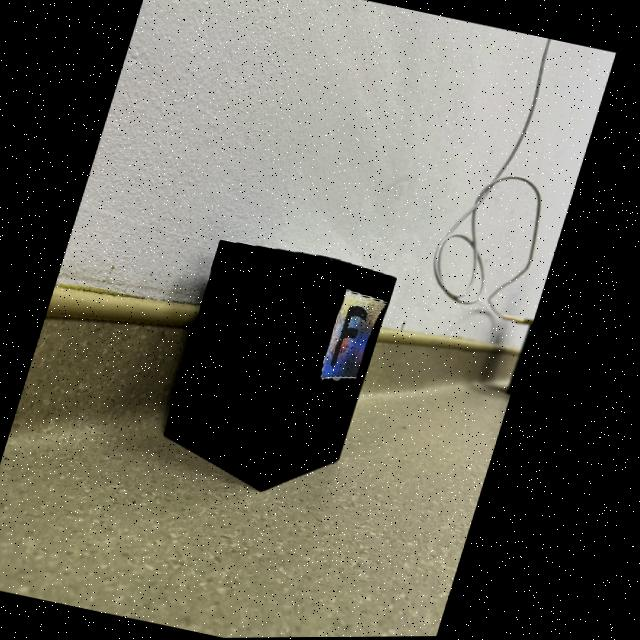F: (338, 307, 373, 367)
